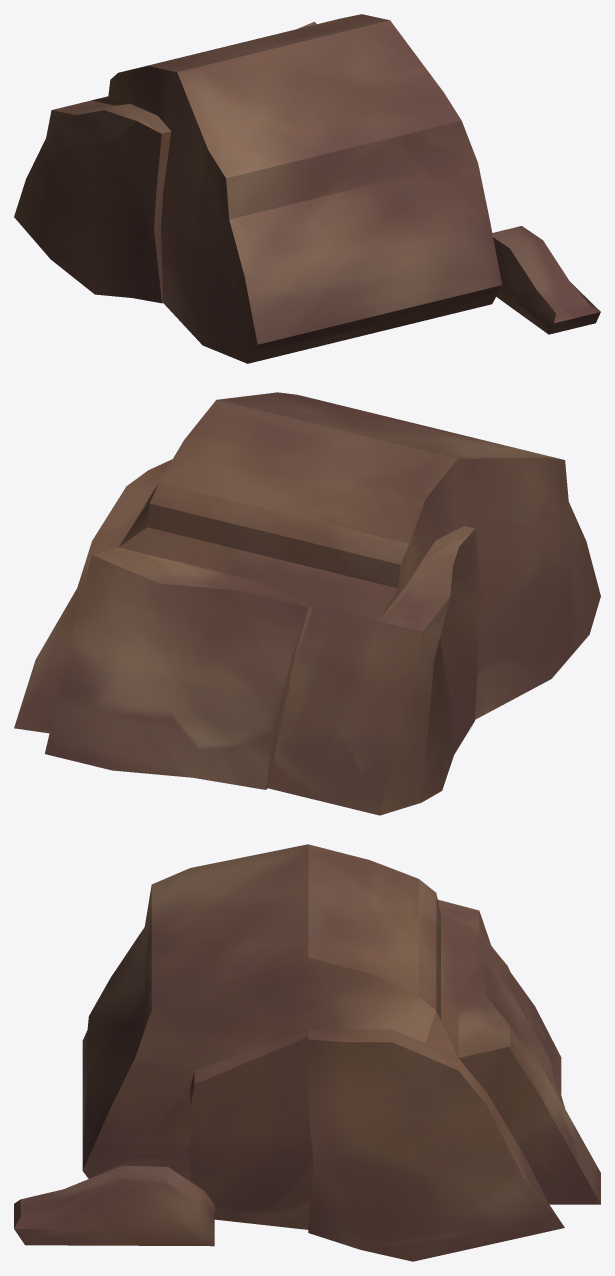
Rendered from batu3.fbx.
3 renders of one model, top to bottom at view 1: azimuth 30°, elevation 25°; view 2: azimuth 150°, elevation 25°; view 3: azimuth 270°, elevation 25°, orthographic. The views are drawn at different scales.
Visible parts, largest first — view 1: batu3; view 2: batu3; view 3: batu3.
Part boxes in pixels (x1,y1,x2,y2): batu3: (14, 14, 600, 363); batu3: (14, 392, 600, 815); batu3: (14, 844, 600, 1261).
Bounding box in the file's own units: 304 × 215 × 422.
